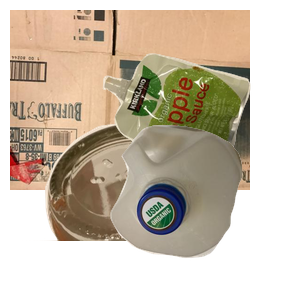cardboard: (10, 10, 250, 190)
glass: (22, 120, 233, 300)
plastic: (108, 123, 300, 300)
trash: (100, 51, 300, 214)
